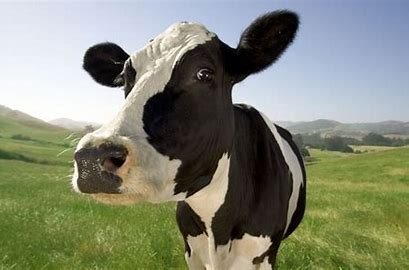waka: (69, 7, 343, 260)
